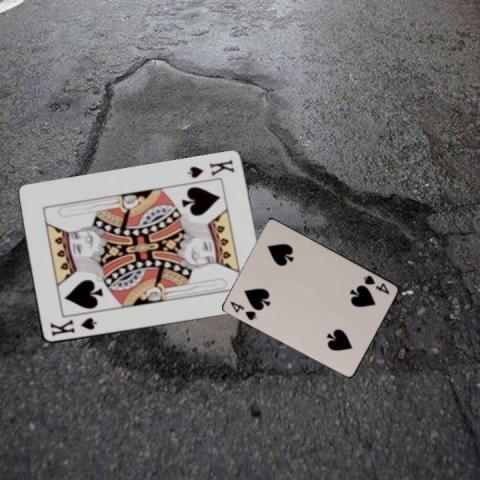4s: (227, 298, 259, 321), (361, 272, 391, 296)
Ks: (47, 315, 98, 338), (184, 157, 235, 180)
